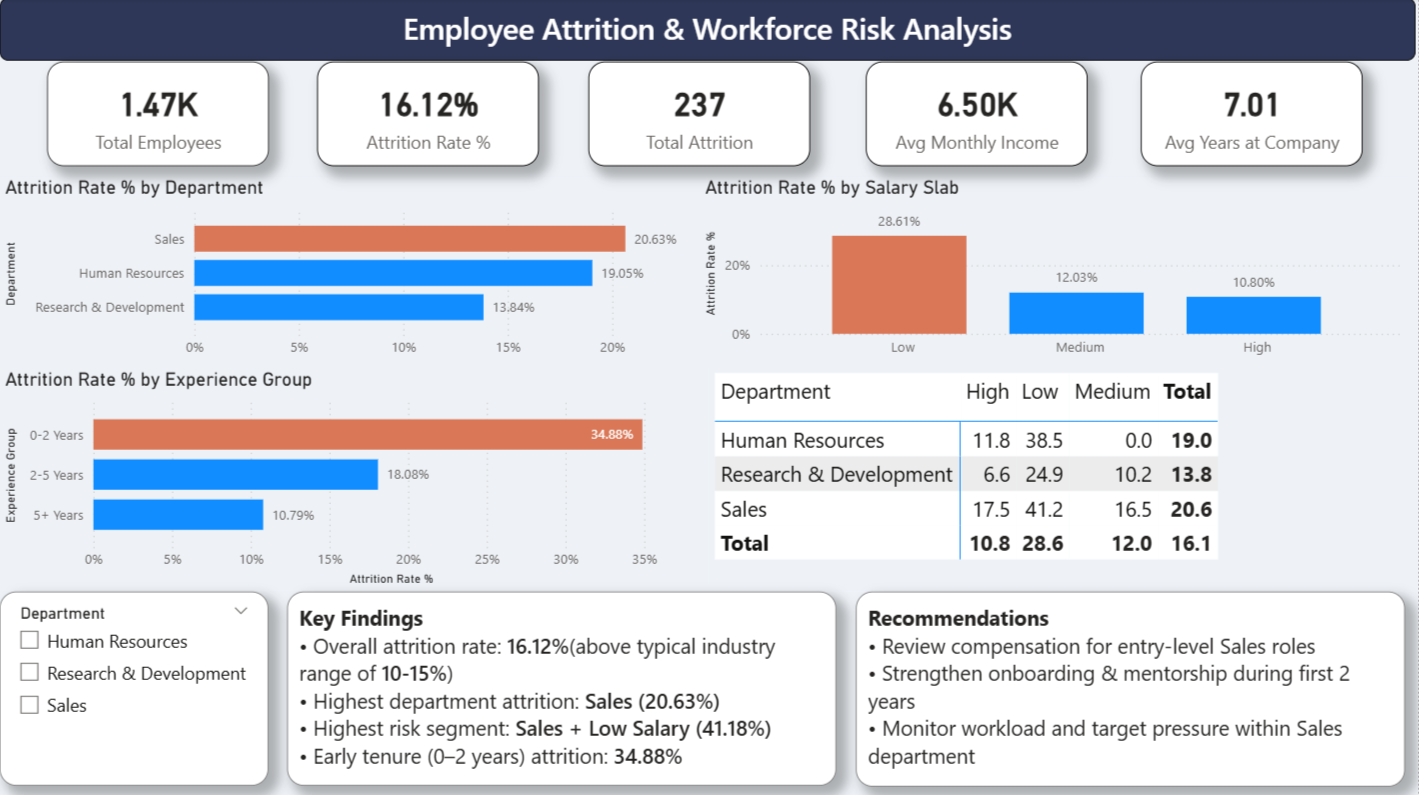

The dashboard page shown, as its layout file describes it:
{"tool":"powerbi","page":{"name":"Page 1","canvas":[1280,720],"ordinal":0},"visuals":[{"type":"textbox","box":[0,0,1276.7,57],"z":0},{"type":"barChart","fields":{"Category":["employees.department"],"Y":["employees.Attrition Rate %"]},"box":[0,161.2,631.2,172.4],"z":1000},{"type":"clusteredColumnChart","fields":{"Category":["employees.salaryslab"],"Y":["employees.Attrition Rate %"]},"box":[631.4,161.6,636,172.1],"z":2000},{"type":"barChart","fields":{"Category":["employees.experiencegroup"],"Y":["employees.Attrition Rate %"]},"box":[0,333.7,639.5,201.2],"z":3000},{"type":"pivotTable","fields":{"Rows":["employees.department"],"Columns":["employees.salaryslab"],"Values":["employees.Attrition Rate for matrics"]},"box":[640,333.4,636.9,201.5],"z":4000},{"type":"slicer","fields":{"Values":["employees.department"]},"box":[0,534.9,242.6,175],"z":5000},{"type":"textbox","box":[258.7,534.9,495,175],"z":6000},{"type":"textbox","box":[772.1,535.4,495,175.8],"z":7000},{"type":"card","fields":{"Values":["employees.Total Employees"]},"box":[42.3,57.2,200.3,94.5],"z":8000},{"type":"card","fields":{"Values":["employees.Total attrition"]},"box":[531.2,57.2,200.3,94.5],"z":9000},{"type":"card","fields":{"Values":["employees.Attrition Rate %"]},"box":[286.1,57.2,200.3,94.5],"z":10000},{"type":"card","fields":{"Values":["employees.Avg Monthly Income"]},"box":[781.2,57.2,200.3,94.5],"z":11000},{"type":"card","fields":{"Values":["employees.Avg Years at Company"]},"box":[1028.8,57.2,200.3,94.5],"z":12000}]}

Visuals, with their boxes in screenshot pixels (x1, y1, x2, y2), scaled from the page's 1280x720 canvas onto the 1419x795 screenshot:
textbox: x1=0, y1=0, x2=1415, y2=63
barChart - employees.department x employees.Attrition Rate %: x1=0, y1=178, x2=700, y2=368
clusteredColumnChart - employees.salaryslab x employees.Attrition Rate %: x1=700, y1=178, x2=1405, y2=368
barChart - employees.experiencegroup x employees.Attrition Rate %: x1=0, y1=368, x2=709, y2=591
pivotTable - employees.department x employees.salaryslab: x1=710, y1=368, x2=1416, y2=591
slicer - employees.department: x1=0, y1=591, x2=269, y2=784
textbox: x1=287, y1=591, x2=836, y2=784
textbox: x1=856, y1=591, x2=1405, y2=785
card - employees.Total Employees: x1=47, y1=63, x2=269, y2=168
card - employees.Total attrition: x1=589, y1=63, x2=811, y2=168
card - employees.Attrition Rate %: x1=317, y1=63, x2=539, y2=168
card - employees.Avg Monthly Income: x1=866, y1=63, x2=1088, y2=168
card - employees.Avg Years at Company: x1=1141, y1=63, x2=1363, y2=168
